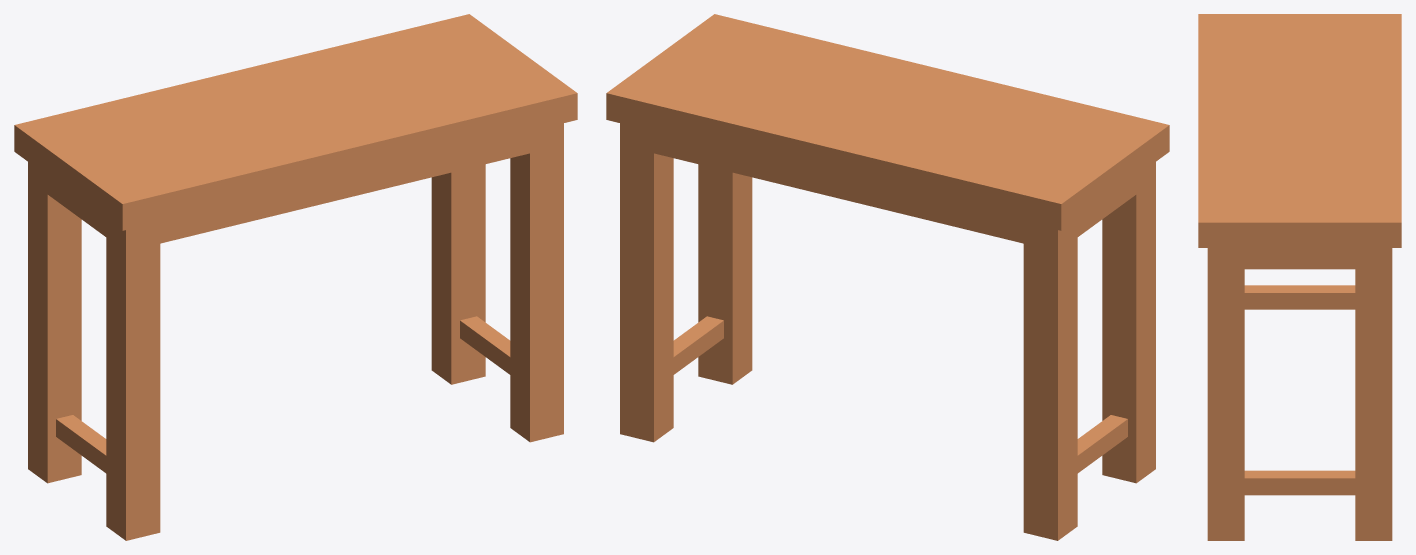
Rendered from side_table.obj.
3 views of the same model, side by side, from view 1: azimuth 30°, elevation 25°; view 2: azimuth 150°, elevation 25°; view 3: azimuth 270°, elevation 25° (orthographic). The views are drawn at different scales.
Parts seen in each view (by area): view 1: sideTable:sideTable; view 2: sideTable:sideTable; view 3: sideTable:sideTable.
Part boxes in pixels (bbox=[...]): sideTable:sideTable: bbox=[14, 14, 577, 540]; sideTable:sideTable: bbox=[606, 14, 1169, 540]; sideTable:sideTable: bbox=[1198, 14, 1401, 540].
Size of the model in its own units: 0.5345 by 0.3844 by 0.22.
